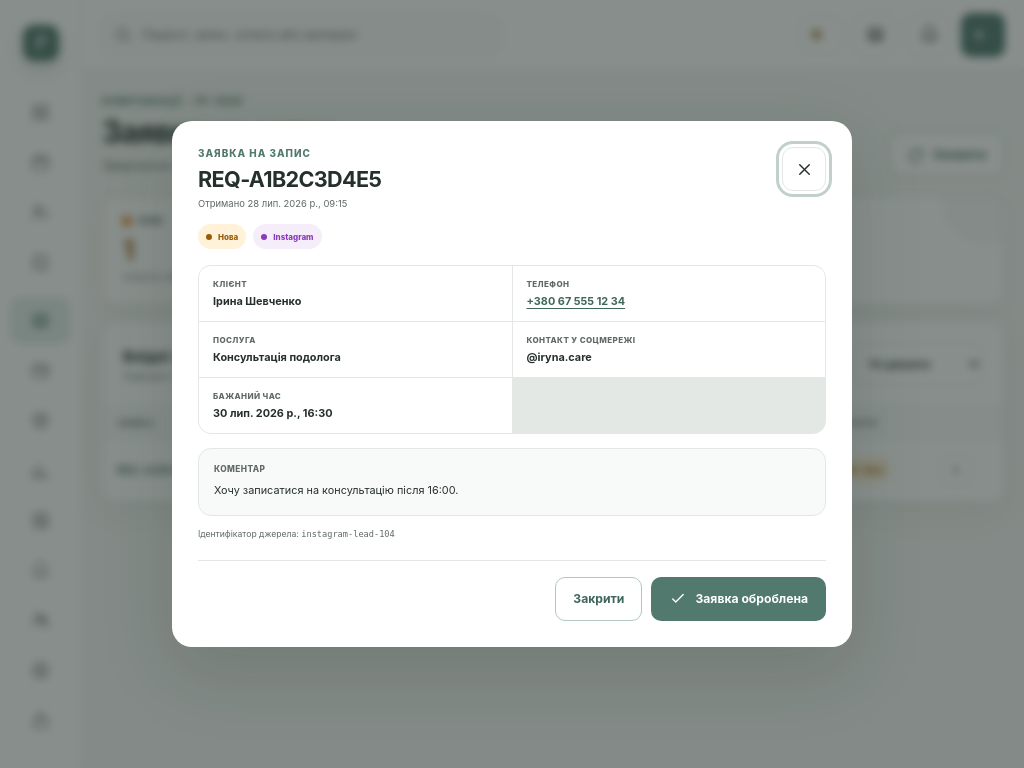
Test case: BookingRequestsPage › keeps the domain unchanged on a version conflict and refreshes detail
Click the button "Заявка оброблена".
click(739, 599)  # box [652, 577, 826, 621]
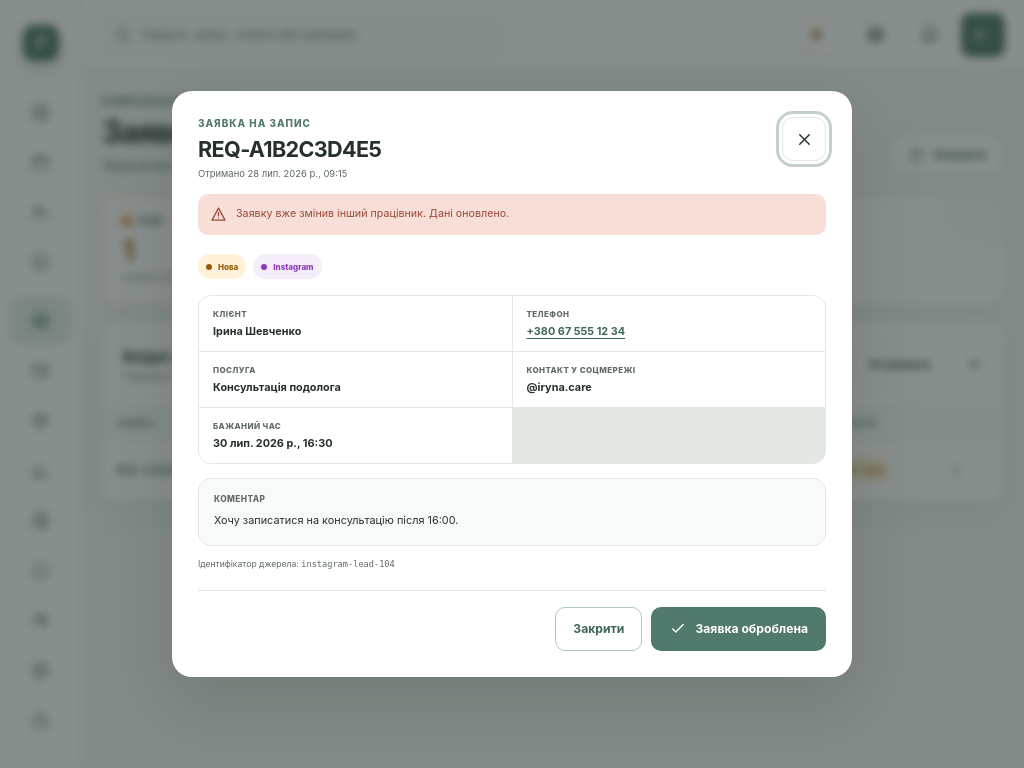
Check: the button "Заявка оброблена" is enabled, box [652, 607, 826, 651]
Check: the text "Заявку вже змінив інший працівник. Дані оновлено." is shown, box [236, 206, 509, 222]
